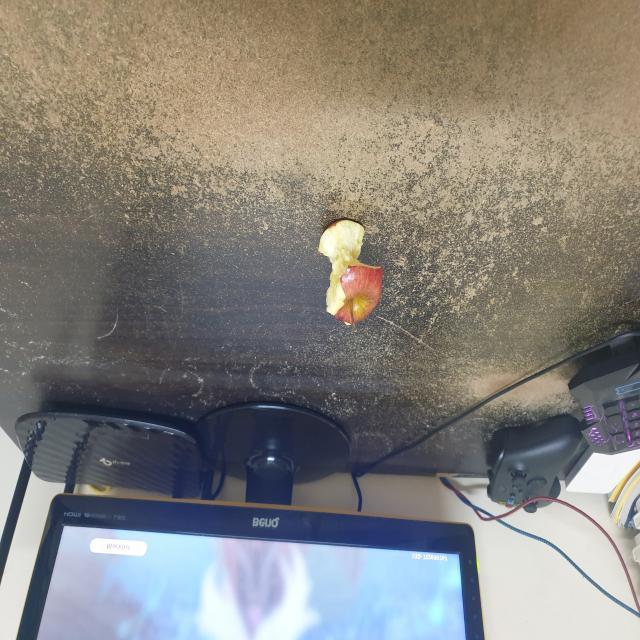apple: (305, 214, 388, 338)
